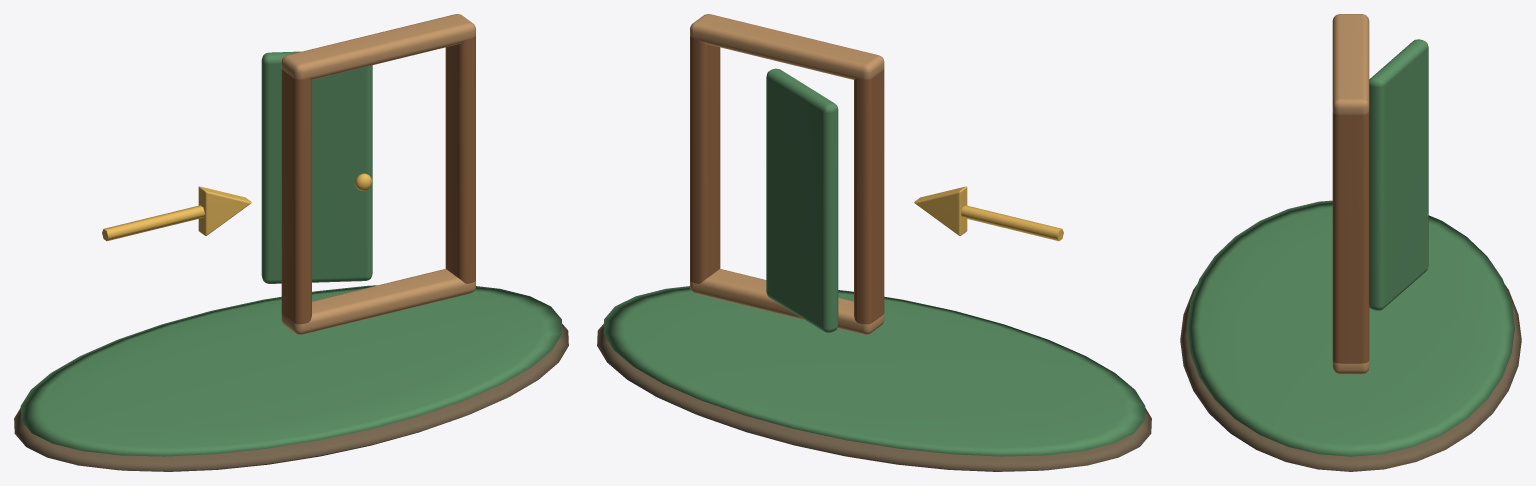
The model's file is entrance.glb.
The picture shows the model from 3 angles, left to right: view 1: azimuth 30°, elevation 25°; view 2: azimuth 150°, elevation 25°; view 3: azimuth 270°, elevation 25°; orthographic projection.
Visible parts, largest first — view 1: entrance_surface_01, entrance_surface_03, entrance_surface_04, entrance_surface_00, entrance_surface_02; view 2: entrance_surface_01, entrance_surface_03, entrance_surface_00, entrance_surface_04, entrance_surface_02; view 3: entrance_surface_01, entrance_surface_03, entrance_surface_00, entrance_surface_04.
Part boxes in pixels (x1,y1,x2,y2): entrance_surface_01: (20,51,562,456); entrance_surface_03: (281,35,475,324); entrance_surface_04: (281,14,475,334); entrance_surface_00: (14,323,568,471); entrance_surface_02: (102,173,371,241); entrance_surface_01: (603,68,1145,456); entrance_surface_03: (690,35,884,324); entrance_surface_00: (597,323,1151,471); entrance_surface_04: (690,14,884,334); entrance_surface_02: (914,186,1063,241); entrance_surface_01: (1187,39,1514,456); entrance_surface_03: (1332,112,1369,363); entrance_surface_00: (1180,285,1521,471); entrance_surface_04: (1332,14,1369,374).
Size of the model in its own units: 4.56 by 2.77 by 2.5.
